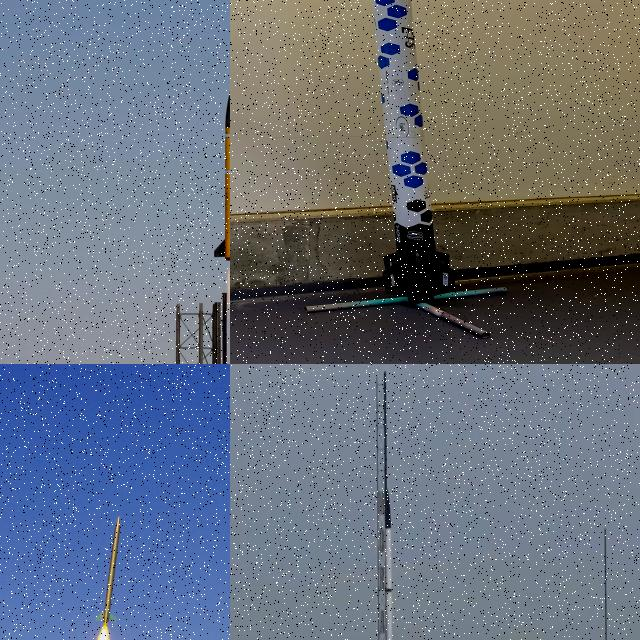Rocket: (371, 0, 455, 303), (377, 487, 401, 640), (94, 515, 123, 624), (213, 90, 230, 261)
